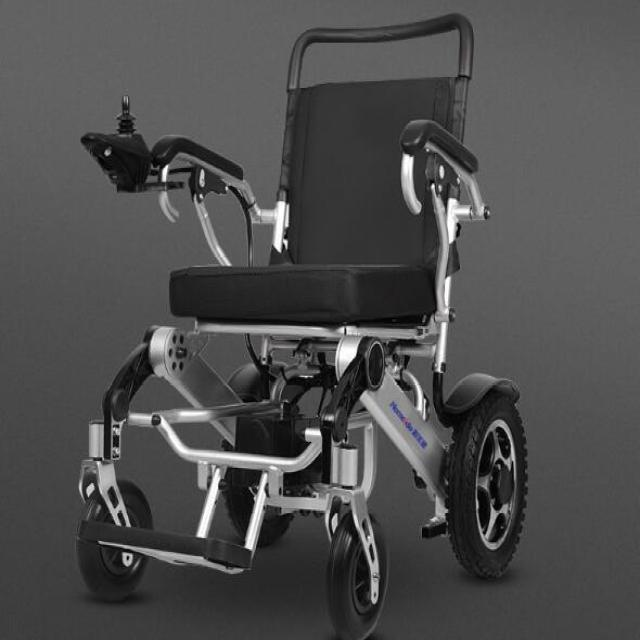wheelchairs: (44, 0, 550, 640)
